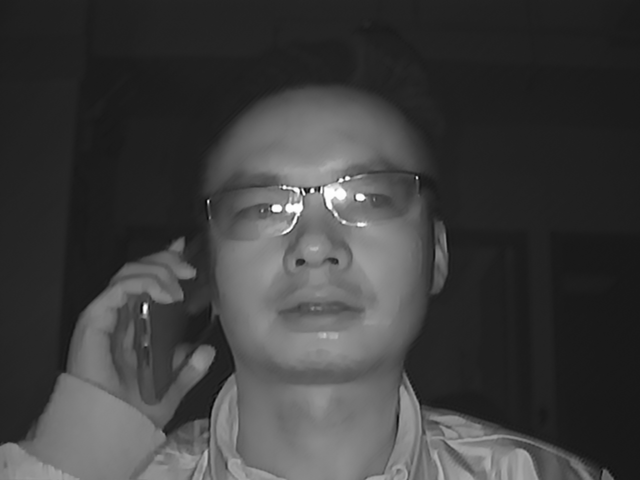hand: (78, 238, 202, 404)
